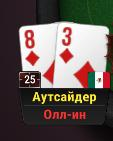3d: (57, 23, 107, 87)
8d: (19, 25, 57, 87)
